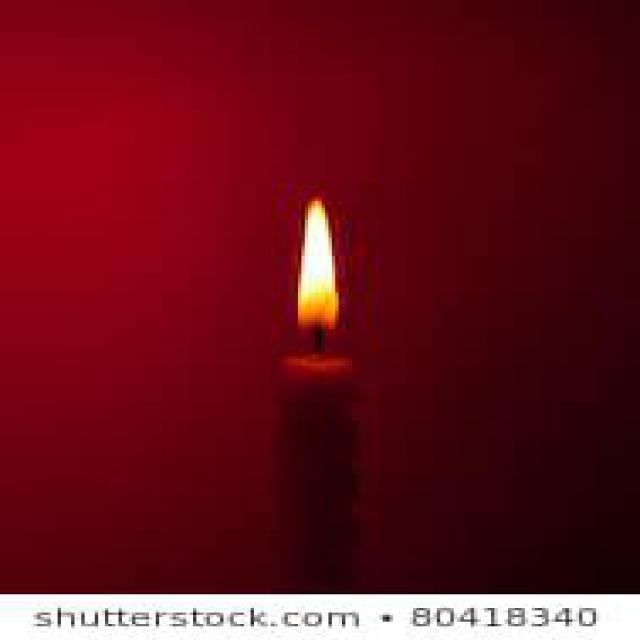Fire: (294, 196, 338, 334)
